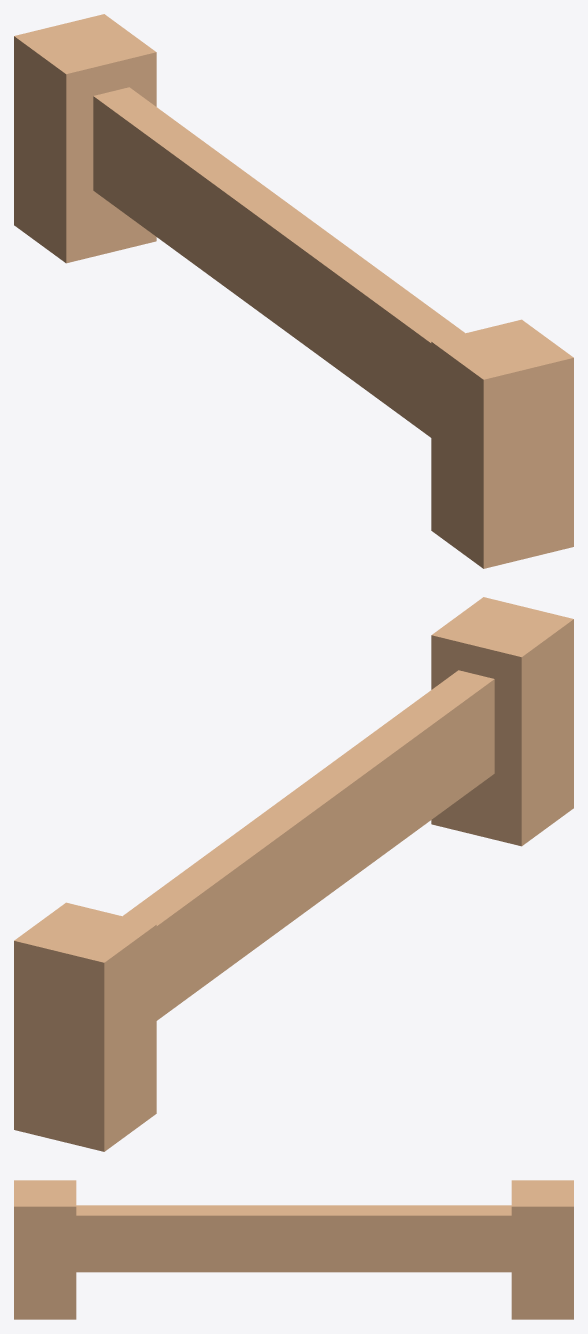
The model's file is fenceLow.glb.
The picture shows the model from 3 angles, top to bottom: view 1: azimuth 30°, elevation 25°; view 2: azimuth 150°, elevation 25°; view 3: azimuth 270°, elevation 25°; orthographic projection. The views are drawn at different scales.
Visible parts, largest first — view 1: fenceLow(Clone); view 2: fenceLow(Clone); view 3: fenceLow(Clone).
Boxes of the visible parts, box(x1,y1,x2,y2) form: fenceLow(Clone): box(14, 14, 573, 568); fenceLow(Clone): box(14, 597, 573, 1151); fenceLow(Clone): box(14, 1180, 573, 1319).
Size of the model in its own units: 0.1 by 0.2 by 0.9.
